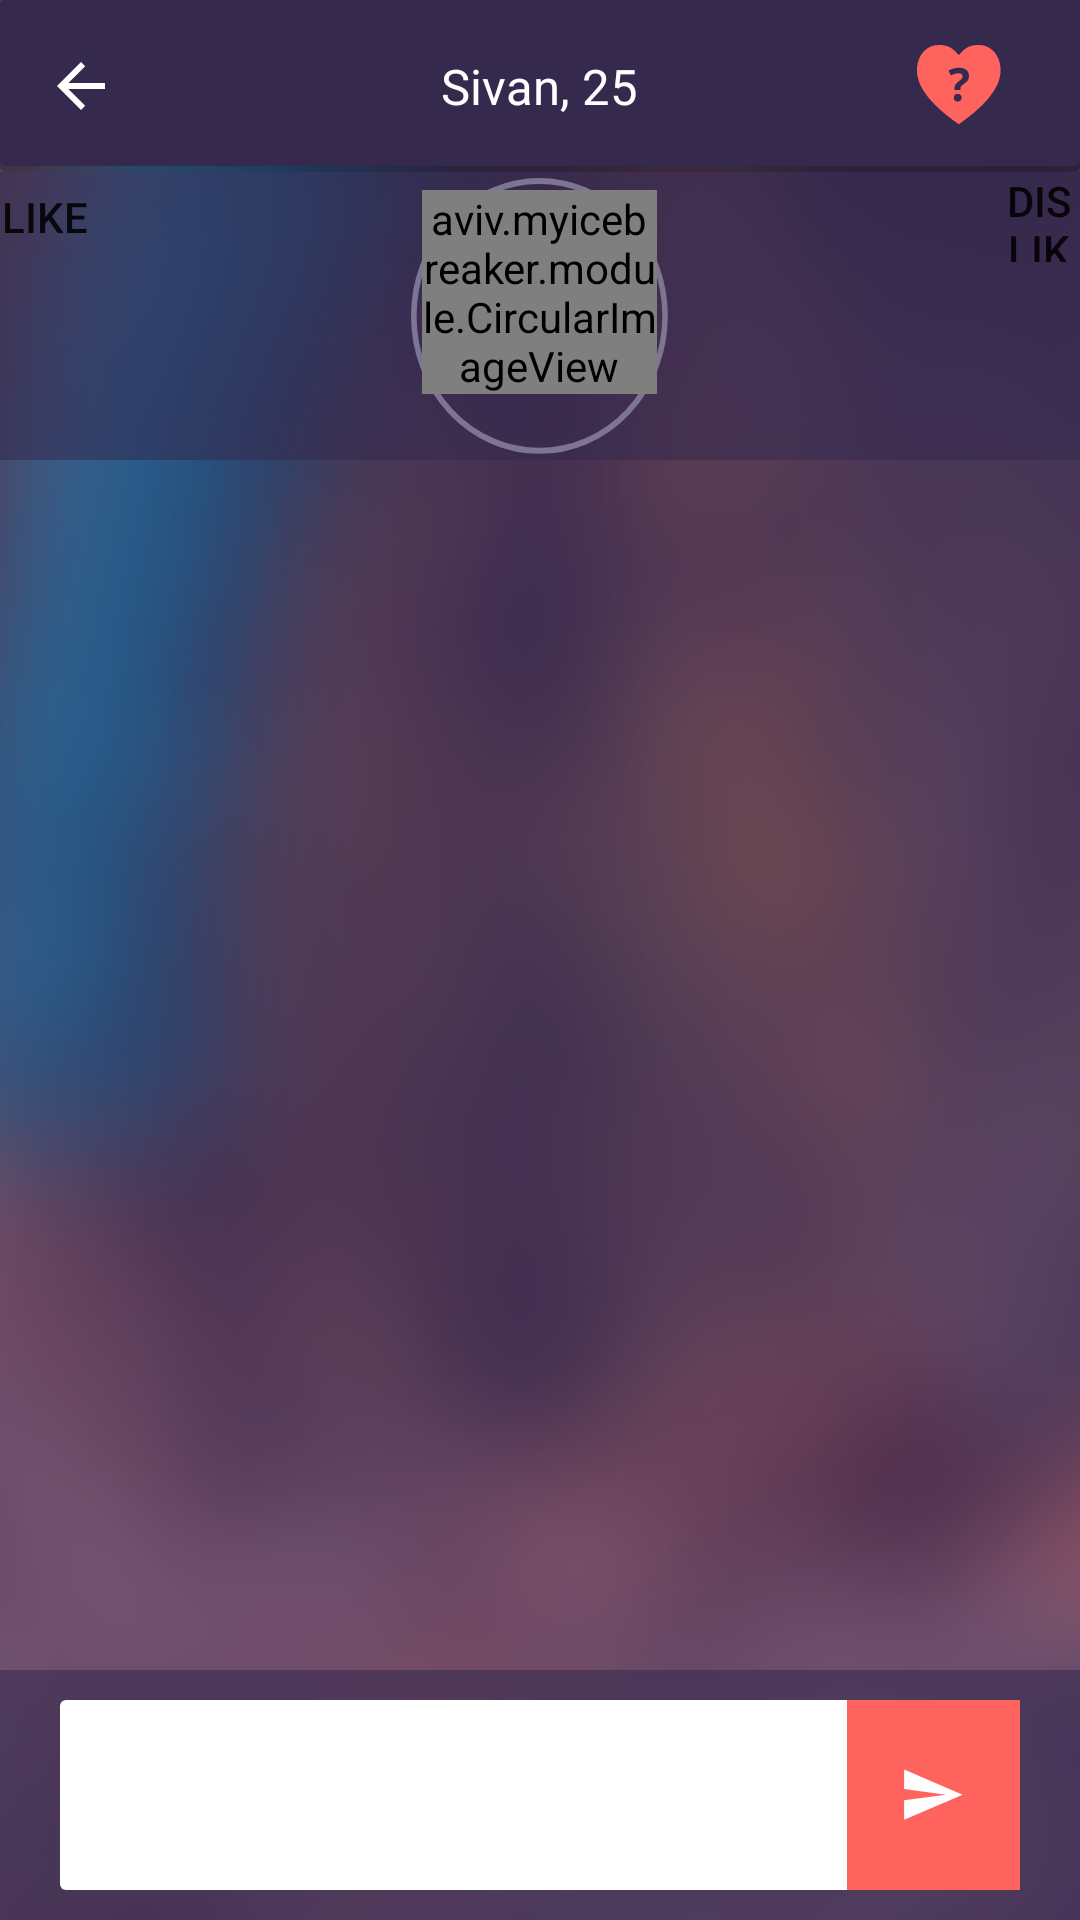

Icons on this 1080w x 1920h Android screen, each with its box as (x1, y1, x2, y2):
send: (904, 1769, 963, 1820)
